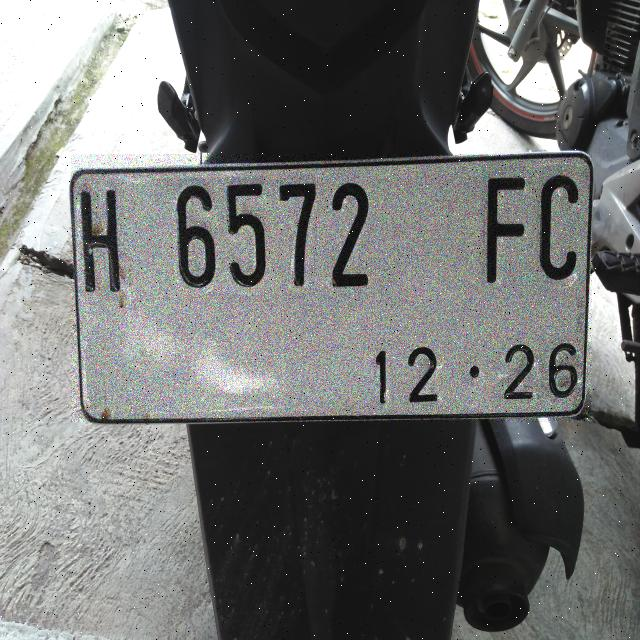plate: (72, 154, 591, 421)
